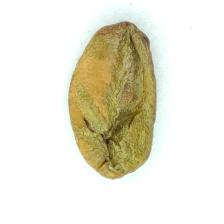NG: (85, 26, 152, 171)
